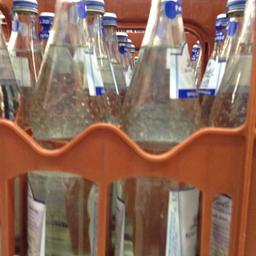water: (116, 0, 206, 255), (28, 1, 110, 255)
